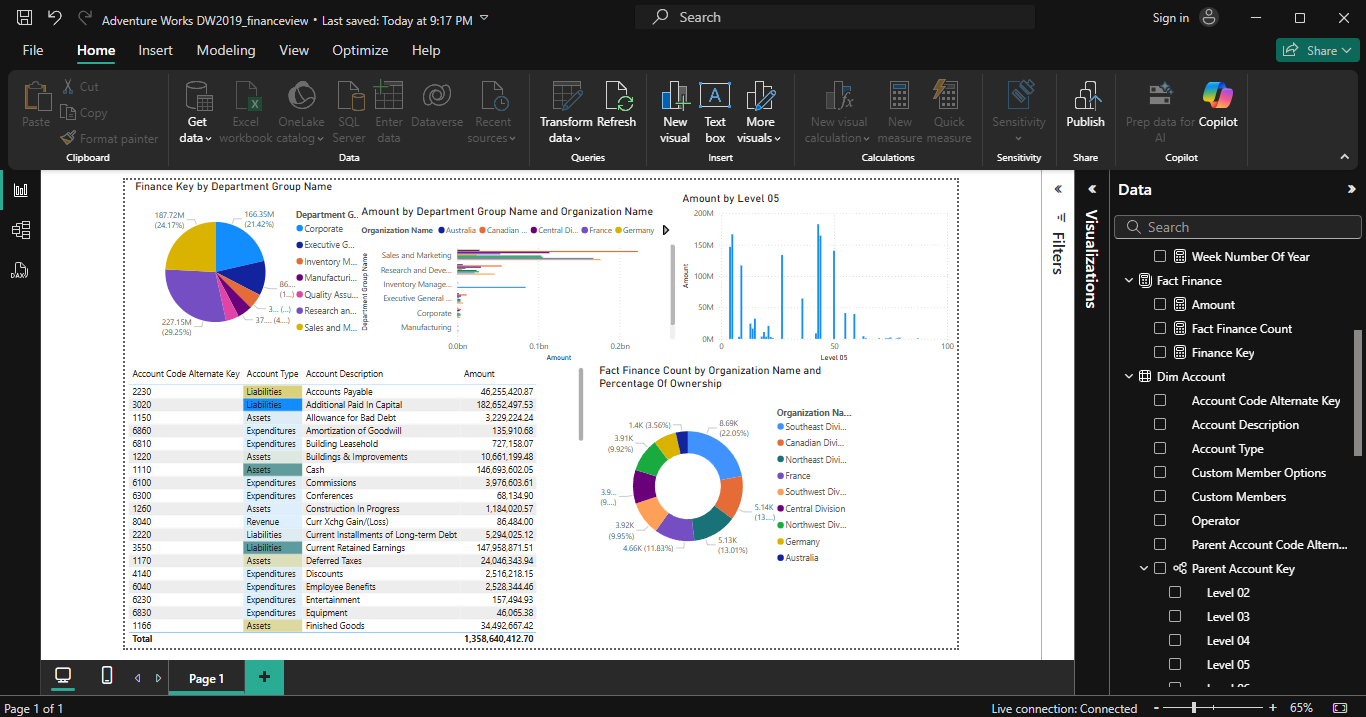

What the dashboard file says about the page in this screenshot:
{"tool":"powerbi","page":{"name":"Page 1","canvas":[1280,720],"ordinal":0},"visuals":[{"type":"pieChart","fields":{"Series":["Dim Department Group.Department Group Name"],"Y":["Fact Finance.Finance Key"]},"box":[10,0,362.9,264.3],"z":0},{"type":"clusteredColumnChart","fields":{"Y":["Fact Finance.Amount"],"Category":["Dim Account.Parent Account Key.Level 05"]},"box":[851.7,18.3,428.3,265],"z":1},{"type":"clusteredBarChart","fields":{"Category":["Dim Department Group.Department Group Name"],"Series":["Dim Organization.Organization Name"],"Y":["Fact Finance.Amount"]},"box":[358.3,38.3,493.3,245],"z":2},{"type":"donutChart","fields":{"Category":["Dim Organization.Organization Name"],"Series":["Dim Organization.Percentage Of Ownership"],"Y":["Fact Finance.Fact Finance Count"]},"box":[725,283.3,400,338.3],"z":3},{"type":"tableEx","fields":{"Values":["Dim Account.Account Code Alternate Key","Dim Account.Account Type","Dim Account.Account Description","Fact Finance.Amount"]},"box":[0,282.9,711.4,437.1],"z":4}]}

Visuals, with their boxes on the page's 1280x720 design canvas (x1, y1, x2, y2). These are canvas units, not pixel positions in the 1366x717 screenshot, which may show the page scaled, cropped or inside an application window:
pieChart - Dim Department Group.Department Group Name x Fact Finance.Finance Key: locate(10, 0, 373, 264)
clusteredColumnChart - Fact Finance.Amount x Dim Account.Parent Account Key.Level 05: locate(852, 18, 1280, 283)
clusteredBarChart - Dim Department Group.Department Group Name x Dim Organization.Organization Name: locate(358, 38, 852, 283)
donutChart - Dim Organization.Organization Name x Dim Organization.Percentage Of Ownership: locate(725, 283, 1125, 622)
tableEx - Dim Account.Account Code Alternate Key x Dim Account.Account Type: locate(0, 283, 711, 720)
